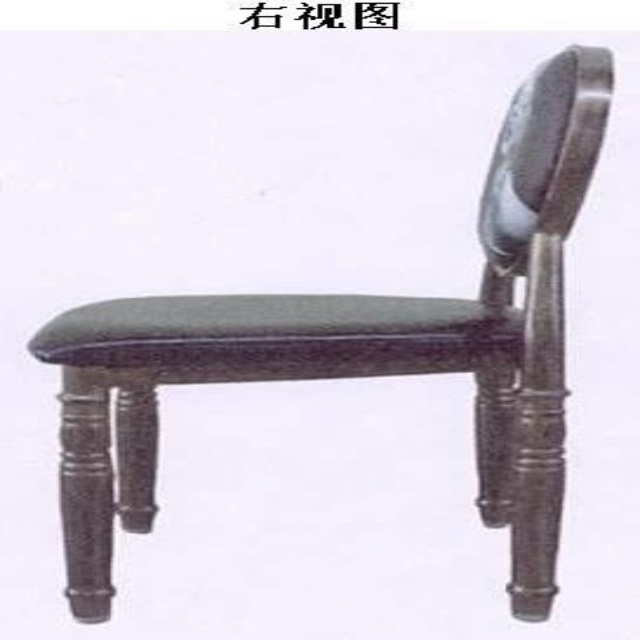obstacle: (28, 45, 612, 621)
